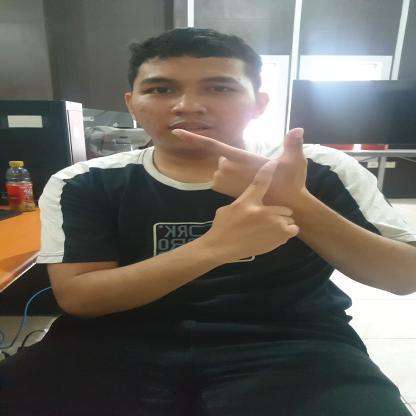Y: (171, 127, 314, 242)
